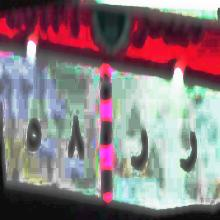5: (26, 118, 42, 154)
8: (64, 107, 86, 159)
raa: (126, 122, 148, 174), (178, 124, 199, 174)
